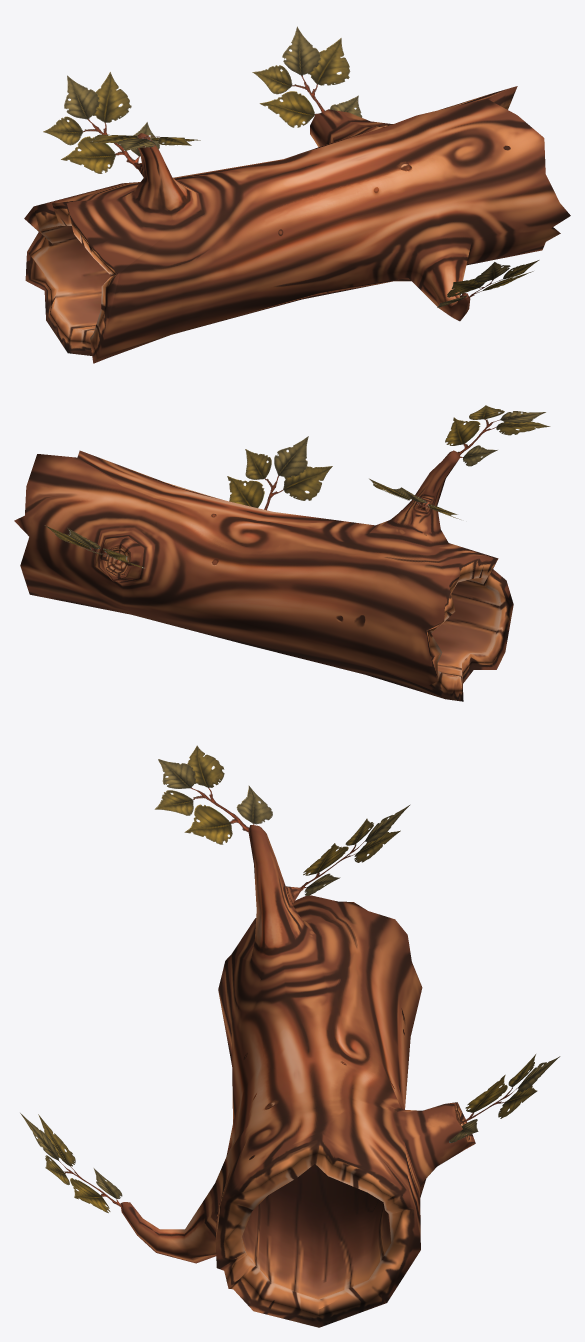
Rendered from arbremort.fbx.
3 views of the same model, one above another, from view 1: azimuth 30°, elevation 25°; view 2: azimuth 150°, elevation 25°; view 3: azimuth 270°, elevation 25° (orthographic). The views are drawn at different scales.
Visible parts, largest first — view 1: tronc, feuille; view 2: tronc, feuille; view 3: tronc, feuille.
Part boxes in pixels (x1,y1,x2,y2): tronc: (24, 86, 570, 363); feuille: (43, 26, 539, 307); tronc: (14, 450, 513, 701); feuille: (44, 405, 550, 568); tronc: (120, 825, 475, 1327); feuille: (20, 745, 560, 1213).
Size of the model in its own units: 150 by 74.06 by 119.
Materials: 2 (2 with a texture image).
